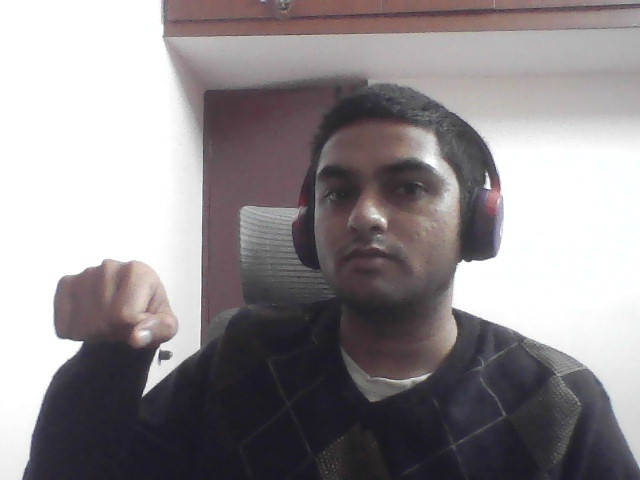Yes: (28, 236, 195, 389)
